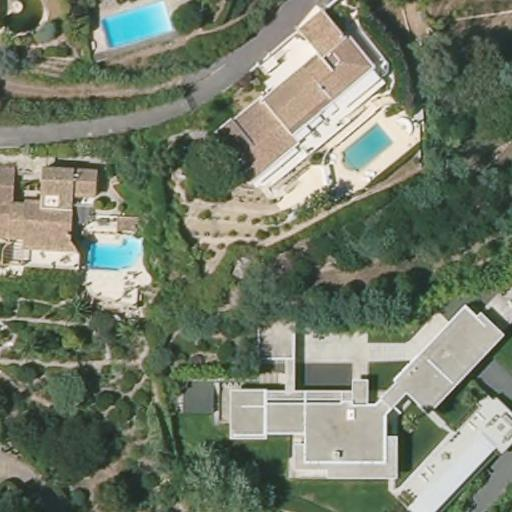pool: (99, 2, 172, 50), (338, 122, 393, 174), (83, 228, 145, 271)
